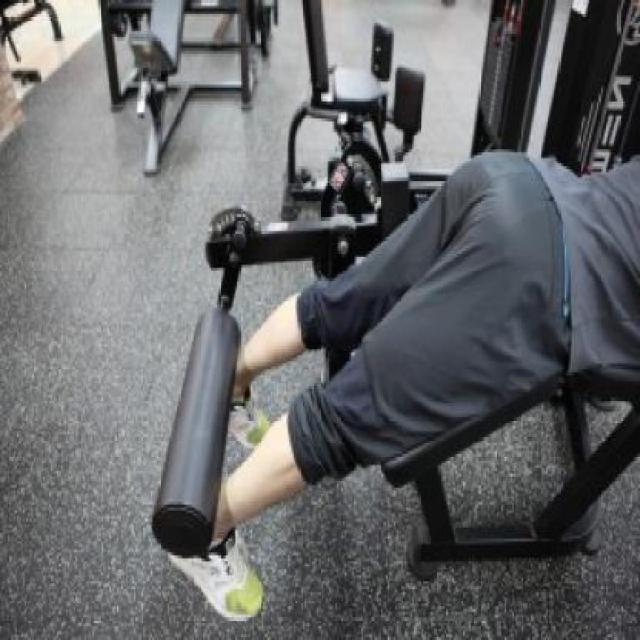reg curl machine: (149, 0, 640, 626)
